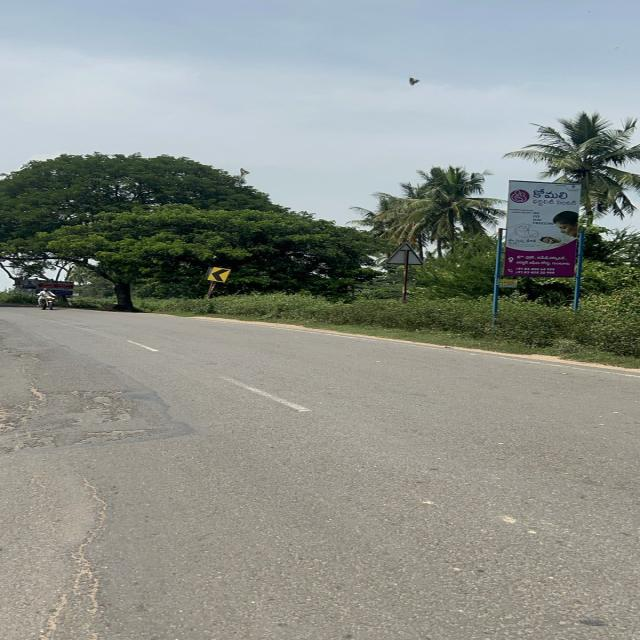chevron_left: (200, 264, 238, 287)
